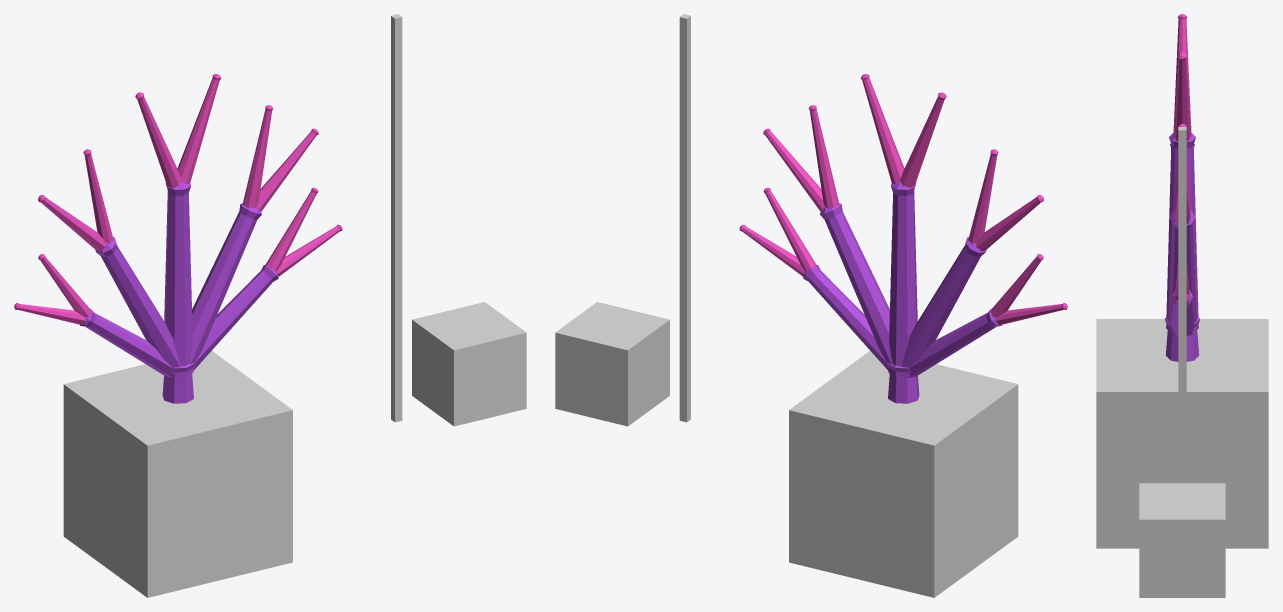
File: FanCoral_A_LOD0_roblox.fbx
The picture shows the model from 3 angles, left to right: view 1: azimuth 30°, elevation 25°; view 2: azimuth 150°, elevation 25°; view 3: azimuth 270°, elevation 25°; orthographic projection. The views are drawn at different scales.
Visible parts, largest first — view 1: Ref_Head, 1_Stud_Cube, 5.3_Stud_Height_Ruler, FanCoral_PrimC_Purple, FanCoral_PrimR_Purple, FanCoral_PrimL_Purple, FanCoral_PrimFR_Purple, FanCoral_PrimFL_Purple, FanCoral_SecC_R_Magenta, FanCoral_SecC_L_Magenta, FanCoral_SecR_L_Magenta, FanCoral_SecR_R_Magenta (+7 smaller); view 2: Ref_Head, 1_Stud_Cube, 5.3_Stud_Height_Ruler, FanCoral_PrimC_Purple, FanCoral_PrimR_Purple, FanCoral_PrimL_Purple, FanCoral_PrimFR_Purple, FanCoral_PrimFL_Purple, FanCoral_SecC_R_Magenta, FanCoral_SecC_L_Magenta, FanCoral_SecR_L_Magenta, FanCoral_SecR_R_Magenta (+7 smaller); view 3: Ref_Head, 1_Stud_Cube, 5.3_Stud_Height_Ruler, FanCoral_PrimC_Purple, FanCoral_PrimR_Purple, FanCoral_SecC_R_Magenta, FanCoral_Stalk_Purple, FanCoral_SecC_L_Magenta, FanCoral_PrimFR_Purple, FanCoral_SecR_L_Magenta.
Part boxes in pixels (bbox=[...]): Ref_Head: bbox=[63, 351, 292, 597]; 1_Stud_Cube: bbox=[412, 302, 526, 426]; 5.3_Stud_Height_Ruler: bbox=[391, 14, 402, 422]; FanCoral_PrimC_Purple: bbox=[164, 182, 193, 376]; FanCoral_PrimR_Purple: bbox=[189, 203, 261, 373]; FanCoral_PrimL_Purple: bbox=[95, 237, 180, 377]; FanCoral_PrimFR_Purple: bbox=[194, 265, 278, 369]; FanCoral_PrimFL_Purple: bbox=[80, 308, 172, 376]; FanCoral_SecC_R_Magenta: bbox=[177, 74, 221, 184]; FanCoral_SecC_L_Magenta: bbox=[135, 92, 181, 187]; FanCoral_SecR_L_Magenta: bbox=[242, 105, 273, 208]; FanCoral_SecR_R_Magenta: bbox=[257, 128, 318, 211]; Ref_Head: bbox=[789, 351, 1018, 597]; 1_Stud_Cube: bbox=[555, 302, 669, 426]; 5.3_Stud_Height_Ruler: bbox=[679, 14, 690, 422]; FanCoral_PrimC_Purple: bbox=[888, 182, 917, 376]; FanCoral_PrimR_Purple: bbox=[820, 203, 892, 373]; FanCoral_PrimL_Purple: bbox=[901, 237, 986, 377]; FanCoral_PrimFR_Purple: bbox=[803, 265, 887, 369]; FanCoral_PrimFL_Purple: bbox=[909, 308, 1001, 376]; FanCoral_SecC_R_Magenta: bbox=[860, 74, 904, 184]; FanCoral_SecC_L_Magenta: bbox=[900, 92, 946, 187]; FanCoral_SecR_L_Magenta: bbox=[808, 105, 839, 208]; FanCoral_SecR_R_Magenta: bbox=[763, 128, 824, 211]; Ref_Head: bbox=[1096, 319, 1268, 548]; 1_Stud_Cube: bbox=[1139, 483, 1225, 597]; 5.3_Stud_Height_Ruler: bbox=[1178, 127, 1186, 483]; FanCoral_PrimC_Purple: bbox=[1166, 133, 1198, 333]; FanCoral_PrimR_Purple: bbox=[1168, 210, 1196, 335]; FanCoral_SecC_R_Magenta: bbox=[1173, 52, 1191, 140]; FanCoral_Stalk_Purple: bbox=[1165, 317, 1199, 361]; FanCoral_SecC_L_Magenta: bbox=[1173, 14, 1191, 130]; FanCoral_PrimFR_Purple: bbox=[1171, 290, 1193, 335]; FanCoral_SecR_L_Magenta: bbox=[1174, 123, 1190, 213].
Bounding box in the file's own units: 6.75 × 2 × 6.3.
